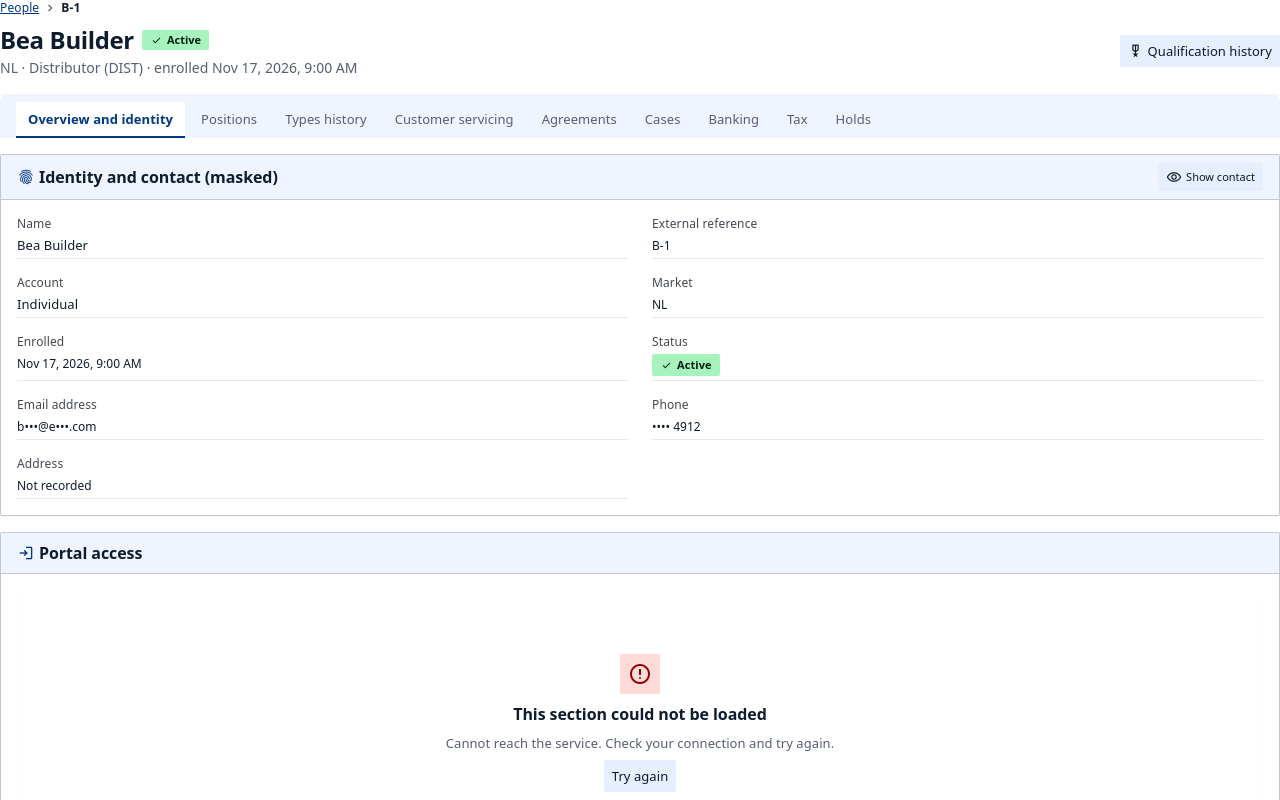
Test case: ParticipantRecord (SC-09) › moves focus to the shown contact when no step-up is asked (the Show contact button is gone)
Click the button "Show contact" at (1211, 177), box x1=1158 y1=163 x2=1263 y2=191
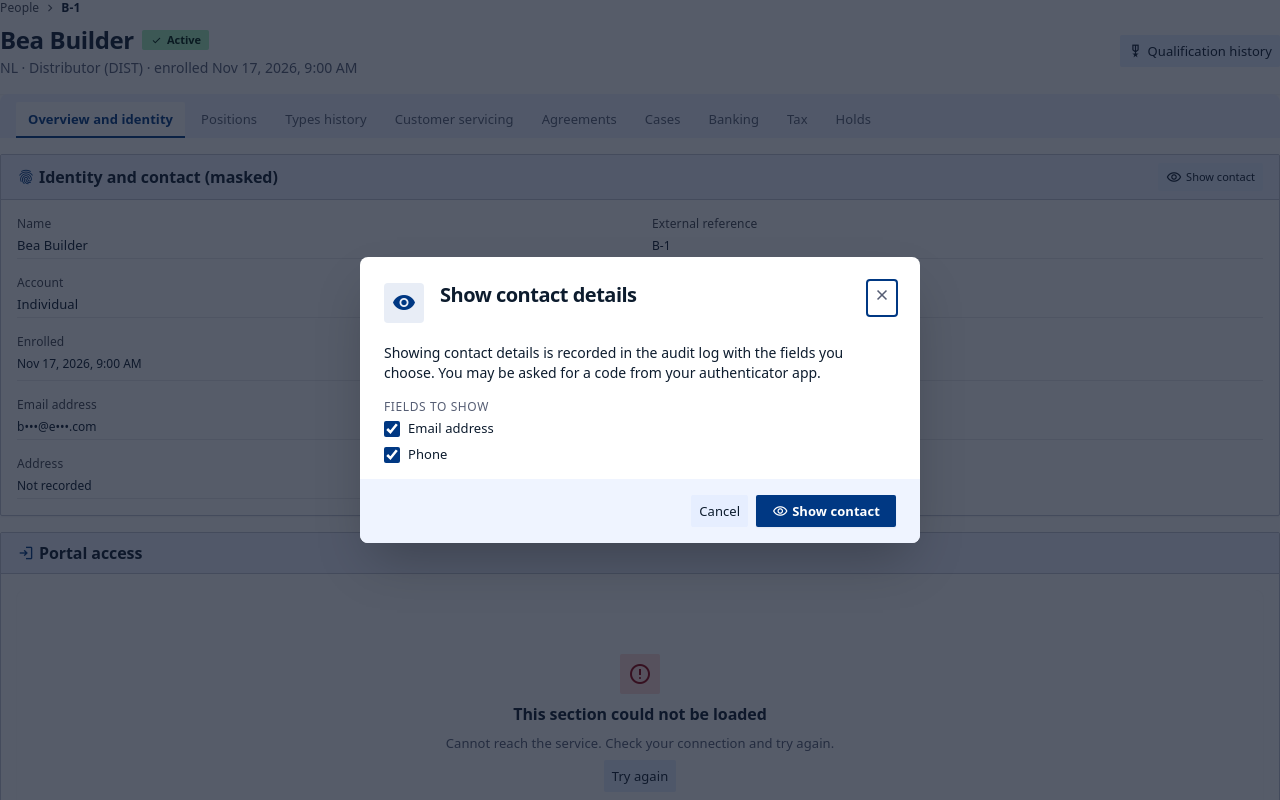
Click the button "Show contact" at (826, 511), box x1=756 y1=495 x2=896 y2=527
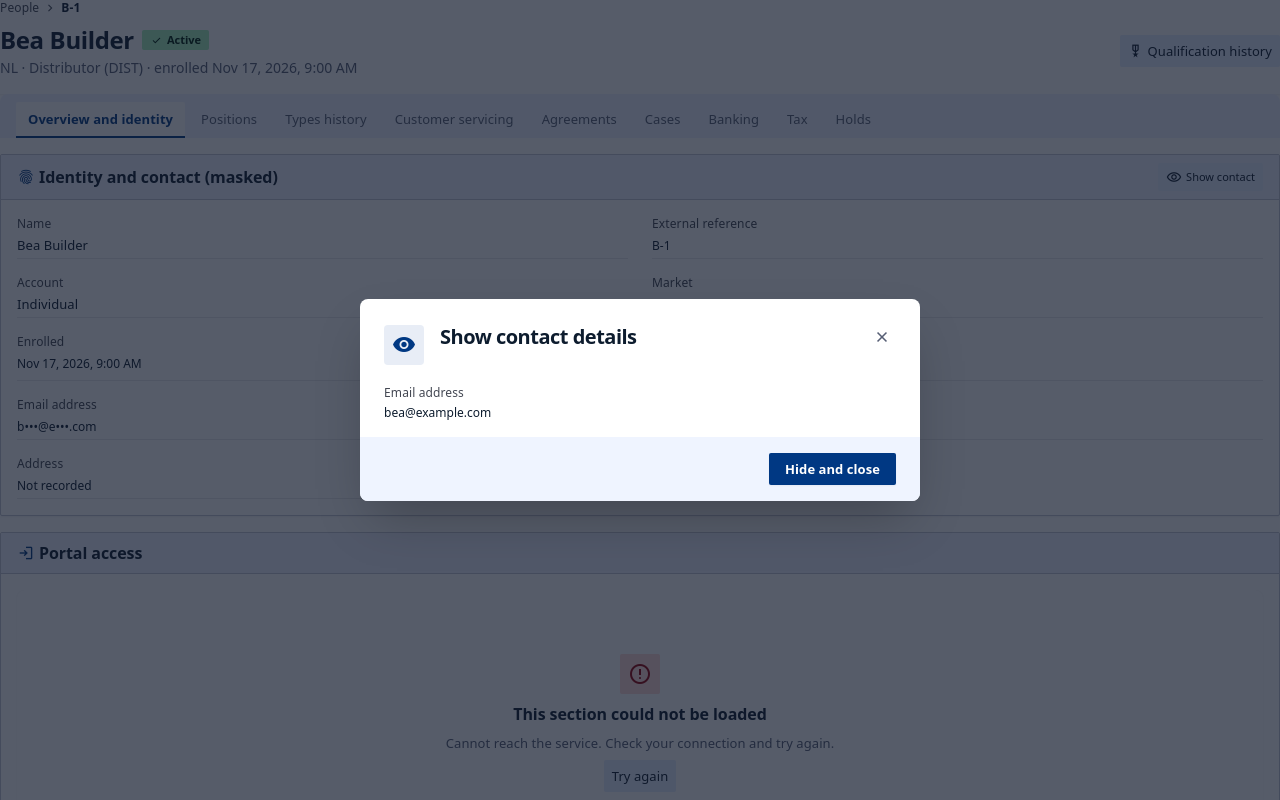
Expected: the text "bea@example.com" is shown, x1=384 y1=404 x2=491 y2=421
